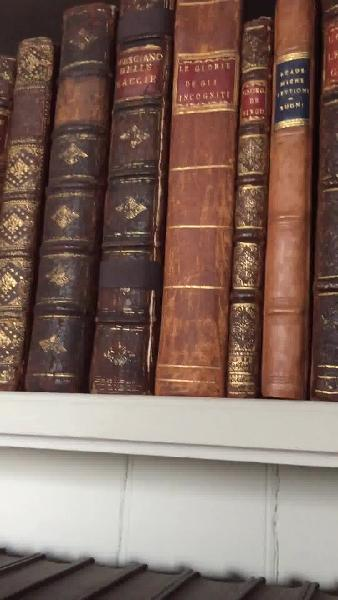Aa6-30: (4, 21, 47, 386)
Aa6-31: (23, 11, 114, 408)
Aa6-32: (97, 4, 165, 398)
Aa6-33: (150, 11, 239, 405)
Aa6-34: (229, 13, 264, 405)
Aa6-35: (267, 4, 319, 406)
